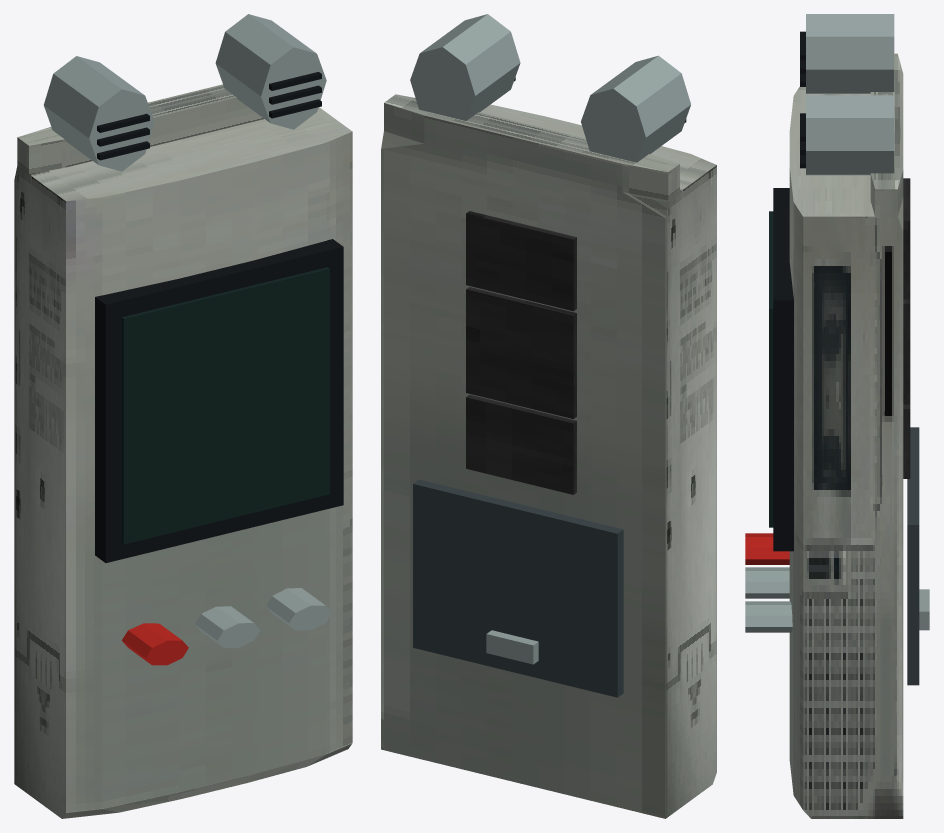
Rendered from blender_sound_recorder_2.glb.
The picture shows the model from 3 angles, left to right: view 1: azimuth 30°, elevation 25°; view 2: azimuth 150°, elevation 25°; view 3: azimuth 270°, elevation 25°; orthographic projection. The views are drawn at different scales.
Visible parts, largest first — view 1: Beckenburg_sound_recorder_T2; view 2: Beckenburg_sound_recorder_T2; view 3: Beckenburg_sound_recorder_T2.
Boxes of the visible parts, bbox=[...] form: Beckenburg_sound_recorder_T2: bbox=[14, 14, 352, 818]; Beckenburg_sound_recorder_T2: bbox=[381, 14, 716, 818]; Beckenburg_sound_recorder_T2: bbox=[745, 14, 929, 818].
Bounding box in the file's own units: 0.109 × 0.261 × 0.0625.
1 material, 1 textured.
